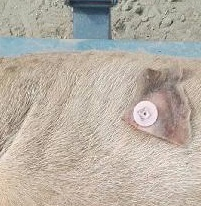text: (126, 92, 170, 137)
